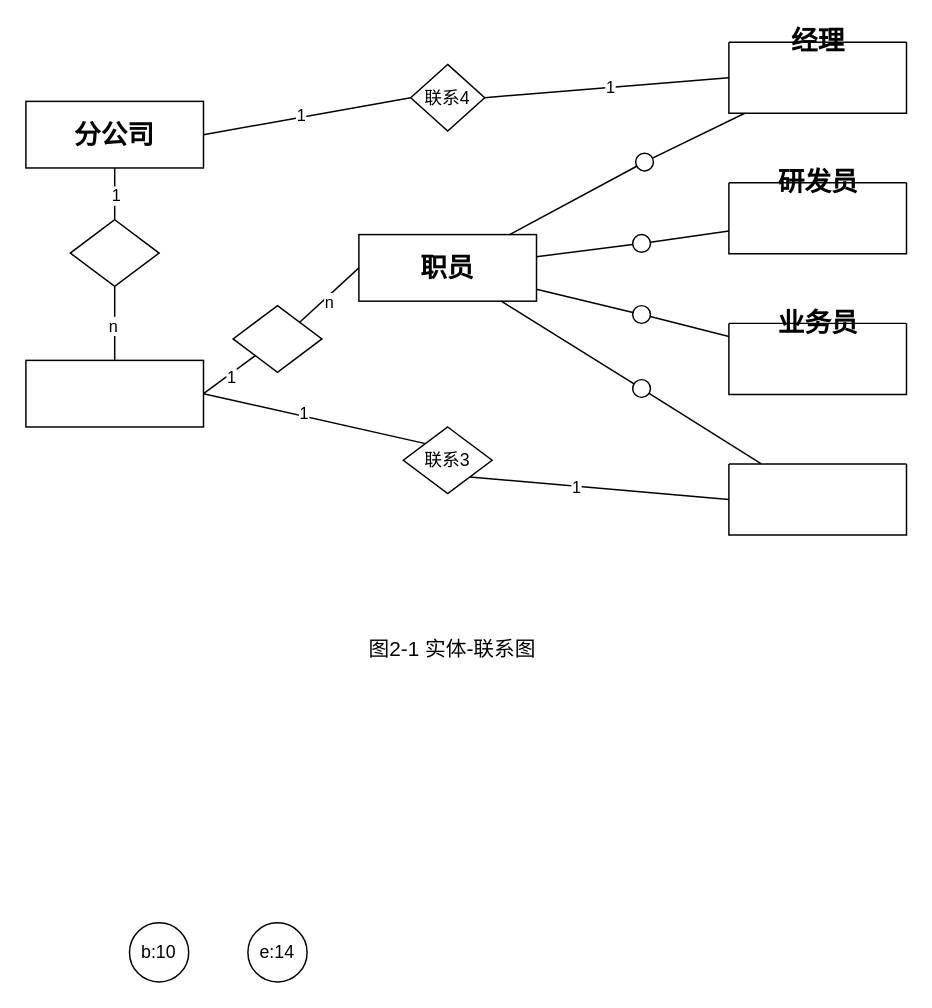
This 932x1008 diagram has some shape labels left out. Each missing label, with the box of its shape:
业务部: (24, 359, 204, 427)
主管: (727, 462, 906, 535)
联系1: (69, 218, 159, 286)
联系2: (232, 304, 322, 372)
